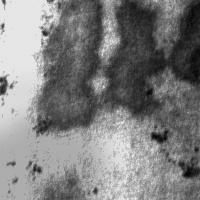patches: (0, 87, 109, 200), (0, 110, 104, 200), (39, 1, 102, 132), (108, 1, 165, 115), (168, 1, 200, 85), (176, 154, 200, 180), (149, 126, 170, 145)
